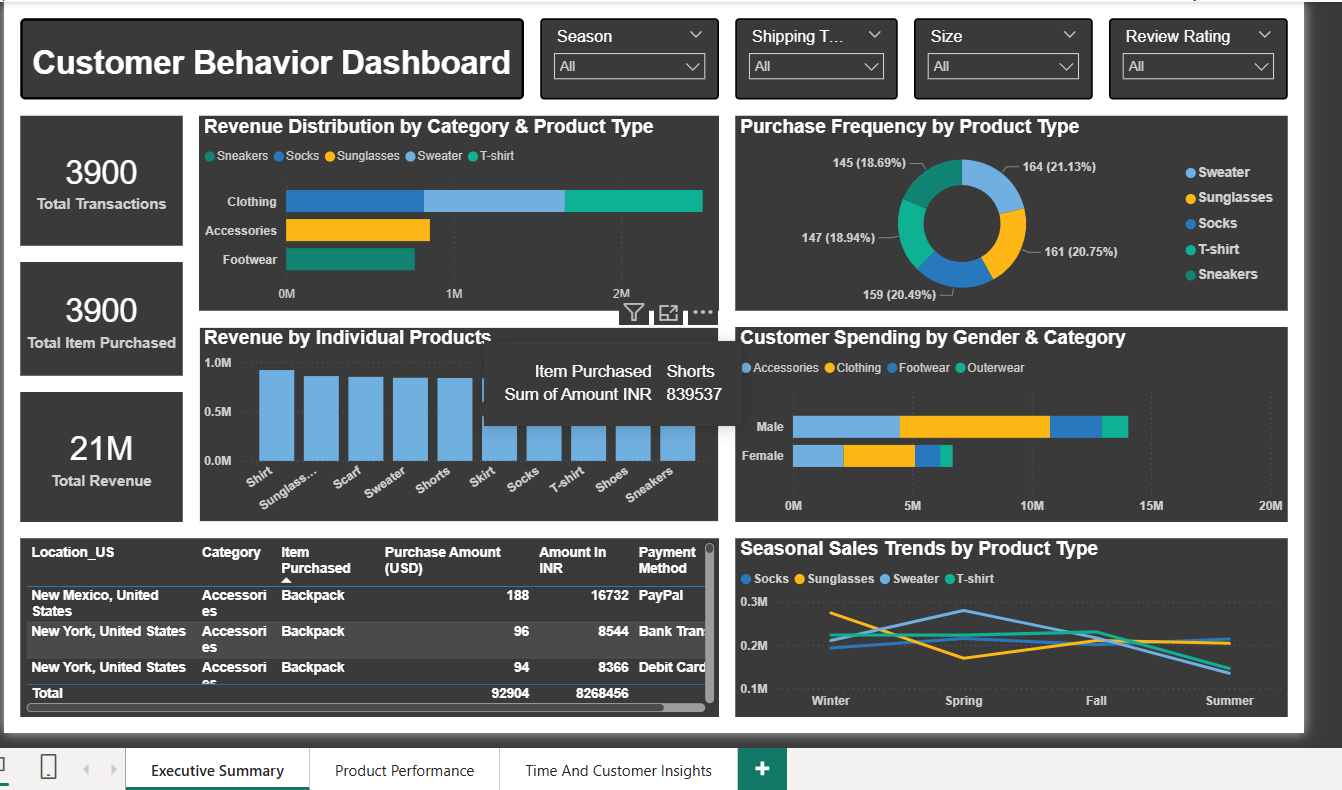

Layout of this report page (visuals, bound fields, positions):
{"tool":"powerbi","page":{"name":"Executive Summary","canvas":[1280,720],"ordinal":0},"visuals":[{"type":"textbox","box":[16,16,496,80],"z":0},{"type":"card","fields":{"Values":["shopping_behavior_updated.Total ID"]},"box":[16,112,160,128],"z":1000},{"type":"card","fields":{"Values":["shopping_behavior_updated.Total Item purchased"]},"box":[16,256,160,112],"z":2000},{"type":"card","fields":{"Values":["shopping_behavior_updated.Total Amount"]},"box":[16,384,160,128],"z":3000},{"type":"barChart","title":"Revenue Distribution by Category & Product Type","fields":{"Category":["shopping_behavior_updated.Category"],"Y":["Sum(shopping_behavior_updated.Amount INR)"],"Series":["shopping_behavior_updated.Item Purchased"]},"box":[192,112,512,192],"z":4000},{"type":"clusteredColumnChart","title":"Revenue by Individual Products","fields":{"Category":["shopping_behavior_updated.Item Purchased"],"Y":["Sum(shopping_behavior_updated.Amount INR)"]},"box":[192,320,512,192],"z":5000},{"type":"donutChart","title":"Purchase Frequency by Product Type","fields":{"Category":["shopping_behavior_updated.Item Purchased"],"Y":["CountNonNull(shopping_behavior_updated.Frequency of Purchases)"]},"box":[720,112,544,192],"z":6000},{"type":"barChart","title":"Customer Spending by Gender & Category","fields":{"Category":["shopping_behavior_updated.Gender"],"Y":["shopping_behavior_updated.Total Amount"],"Series":["shopping_behavior_updated.Category"]},"box":[720,320,544,192],"z":7000},{"type":"lineChart","title":"Seasonal Sales Trends by Product Type","fields":{"Category":["shopping_behavior_updated.Season"],"Y":["shopping_behavior_updated.Total Amount"],"Series":["shopping_behavior_updated.Item Purchased"]},"box":[720,528,544,176],"z":8000},{"type":"tableEx","fields":{"Values":["shopping_behavior_updated.Location_US","shopping_behavior_updated.Category","shopping_behavior_updated.Item Purchased","Sum(shopping_behavior_updated.Purchase Amount (USD))","Sum(shopping_behavior_updated.Amount INR)","shopping_behavior_updated.Payment Method"]},"box":[16,528,688,176],"z":9000},{"type":"slicer","fields":{"Values":["shopping_behavior_updated.Season"]},"box":[528,16,176,80],"z":10000},{"type":"slicer","fields":{"Values":["shopping_behavior_updated.Shipping Type"]},"box":[720,16,160,80],"z":11000},{"type":"slicer","fields":{"Values":["shopping_behavior_updated.Size"]},"box":[896,16,176,80],"z":12000},{"type":"slicer","fields":{"Values":["shopping_behavior_updated.Review Rating"]},"box":[1088,16,176,80],"z":13000}]}

Visuals, with their boxes in screenshot pixels (x1, y1, x2, y2):
textbox: 10, 13, 522, 96
card - shopping_behavior_updated.Total ID: 10, 112, 175, 245
card - shopping_behavior_updated.Total Item purchased: 10, 261, 175, 377
card - shopping_behavior_updated.Total Amount: 10, 394, 175, 526
"Revenue Distribution by Category & Product Type" barChart: 192, 112, 721, 311
"Revenue by Individual Products" clusteredColumnChart: 192, 327, 721, 526
"Purchase Frequency by Product Type" donutChart: 737, 112, 1300, 311
"Customer Spending by Gender & Category" barChart: 737, 327, 1300, 526
"Seasonal Sales Trends by Product Type" lineChart: 737, 542, 1300, 724
tableEx - shopping_behavior_updated.Location_US x shopping_behavior_updated.Category: 10, 542, 721, 724
slicer - shopping_behavior_updated.Season: 539, 13, 721, 96
slicer - shopping_behavior_updated.Shipping Type: 737, 13, 903, 96
slicer - shopping_behavior_updated.Size: 919, 13, 1101, 96
slicer - shopping_behavior_updated.Review Rating: 1118, 13, 1300, 96
